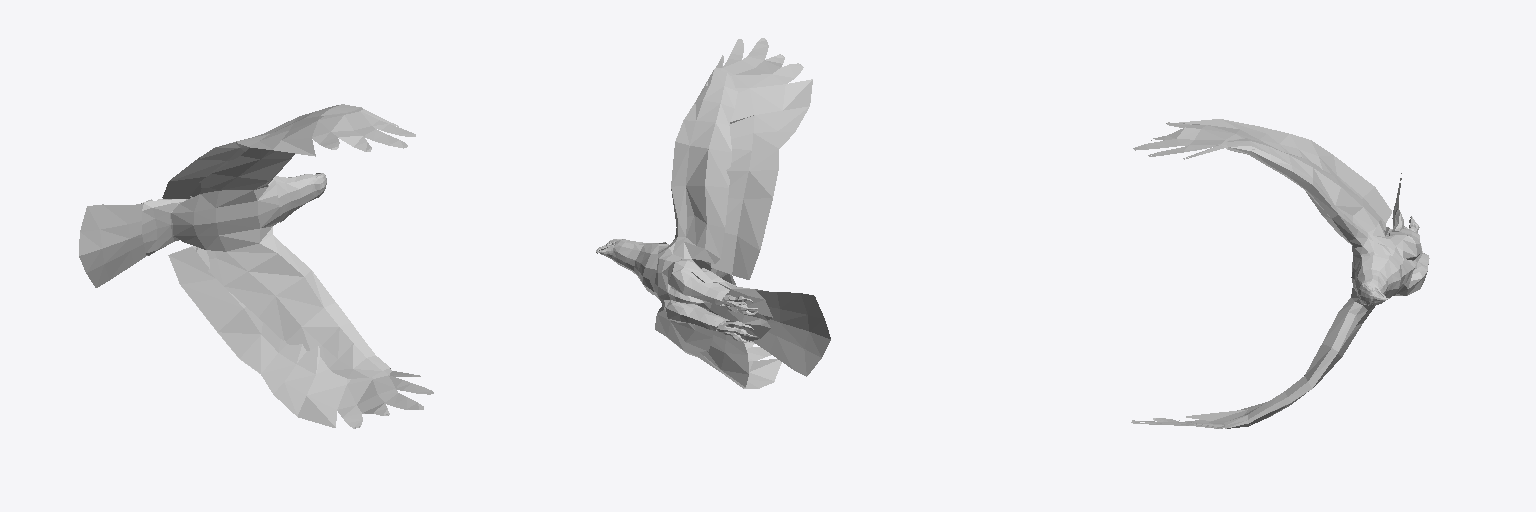
File: AguilaBlancaFinal.obj
3 renders of one model, left to right at view 1: azimuth 30°, elevation 25°; view 2: azimuth 150°, elevation 25°; view 3: azimuth 270°, elevation 25°, orthographic.
Visible parts, largest first — view 1: White_Eagle_Mesh; view 2: White_Eagle_Mesh; view 3: White_Eagle_Mesh.
Boxes of the visible parts, x1,y1,x2,y2 form: White_Eagle_Mesh: [79, 104, 433, 428]; White_Eagle_Mesh: [596, 38, 830, 388]; White_Eagle_Mesh: [1131, 119, 1429, 428].
Bounding box in the file's own units: 0.3364 × 0.3966 × 0.3629.